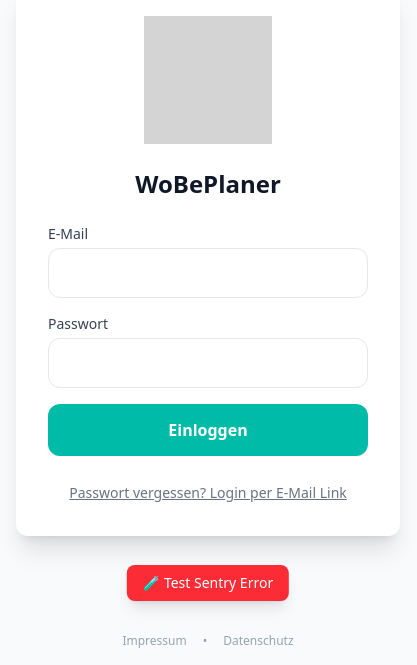
it: Login Component › Magic Link Mode › switches to magic link mode when toggle is clicked
Click the button "Passwort vergessen? Login per E-Mail Link" at x=208, y=493, box [69,483,347,503]
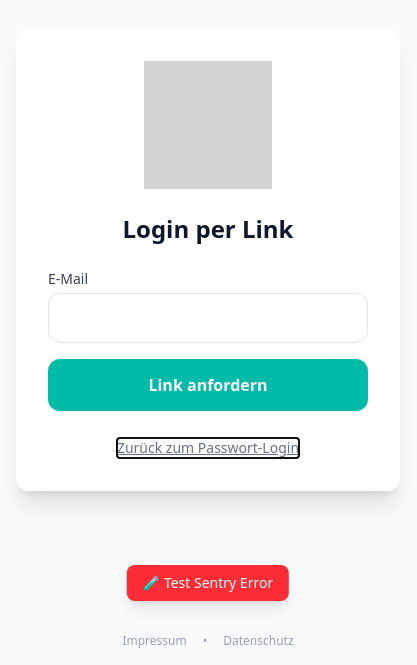
Now the heading "Login per Link" is shown, box [122,212,294,245]
Now the password field is gone
Now the button "Link anfordern" is shown, box [48,359,368,411]
